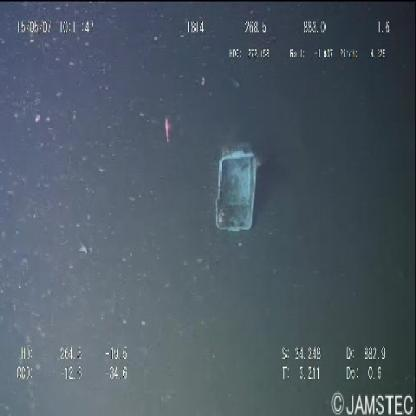Rác: (205, 131, 267, 246)
